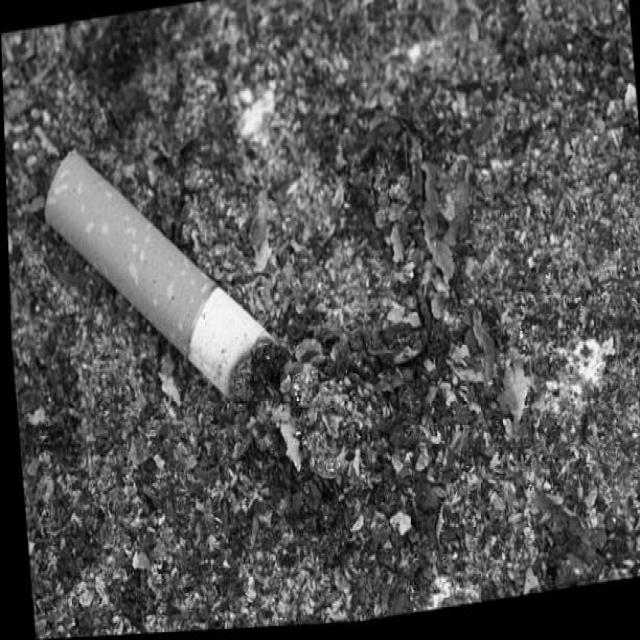cigarette: (37, 117, 285, 443)
